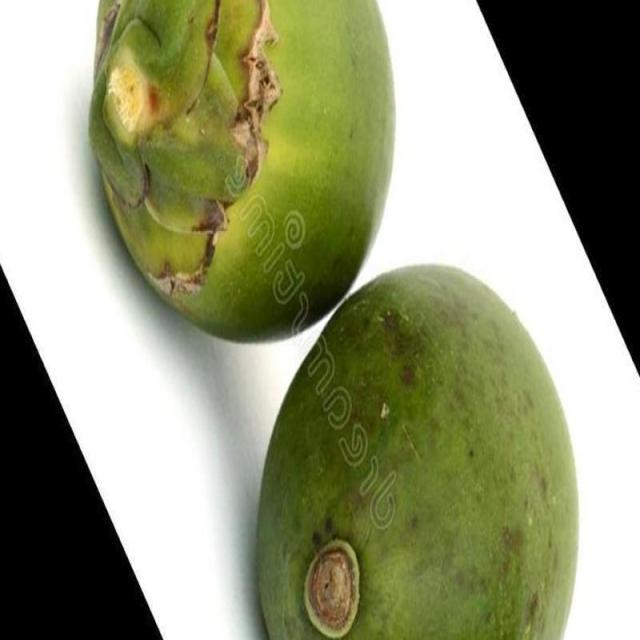good: (254, 265, 581, 639), (87, 0, 398, 346)
